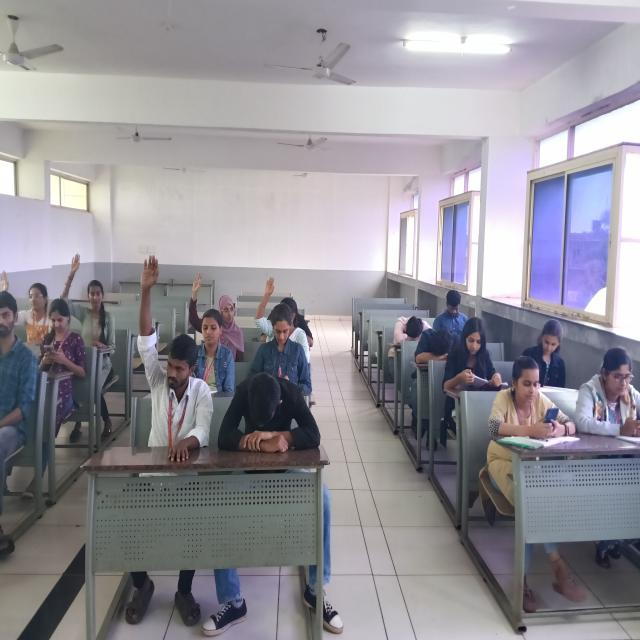Hand Rising: (136, 249, 204, 446), (62, 247, 134, 353), (180, 258, 247, 348), (3, 247, 60, 342), (257, 275, 318, 359)
Reading: (449, 319, 507, 384)
Sleeping: (220, 368, 329, 461), (372, 298, 438, 356), (412, 322, 463, 362)
Using Phone: (490, 358, 572, 435), (36, 302, 91, 392)
Writing: (523, 318, 584, 390)
